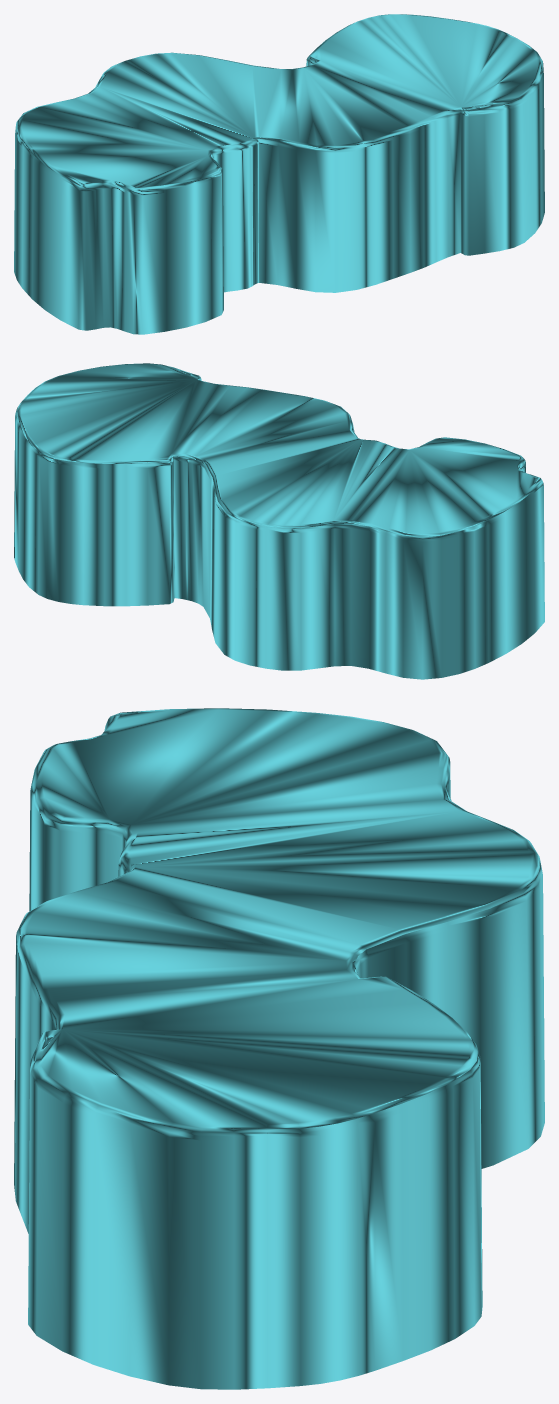
The model's file is lorville_noflyzone_suburb_redout_07.glb.
The picture shows the model from 3 angles, top to bottom: view 1: azimuth 30°, elevation 25°; view 2: azimuth 150°, elevation 25°; view 3: azimuth 270°, elevation 25°; orthographic projection. The views are drawn at different scales.
Bounding box in the file's own units: 5663 × 1591 × 2969.
